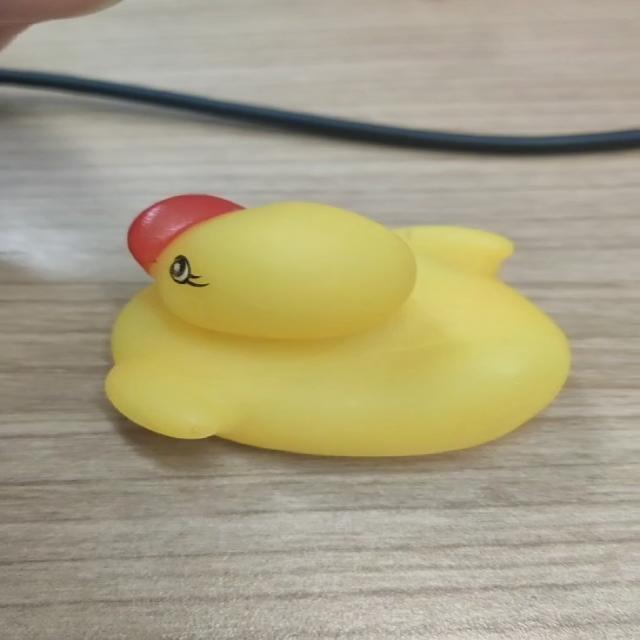rubber-duck: (105, 194, 568, 454)
